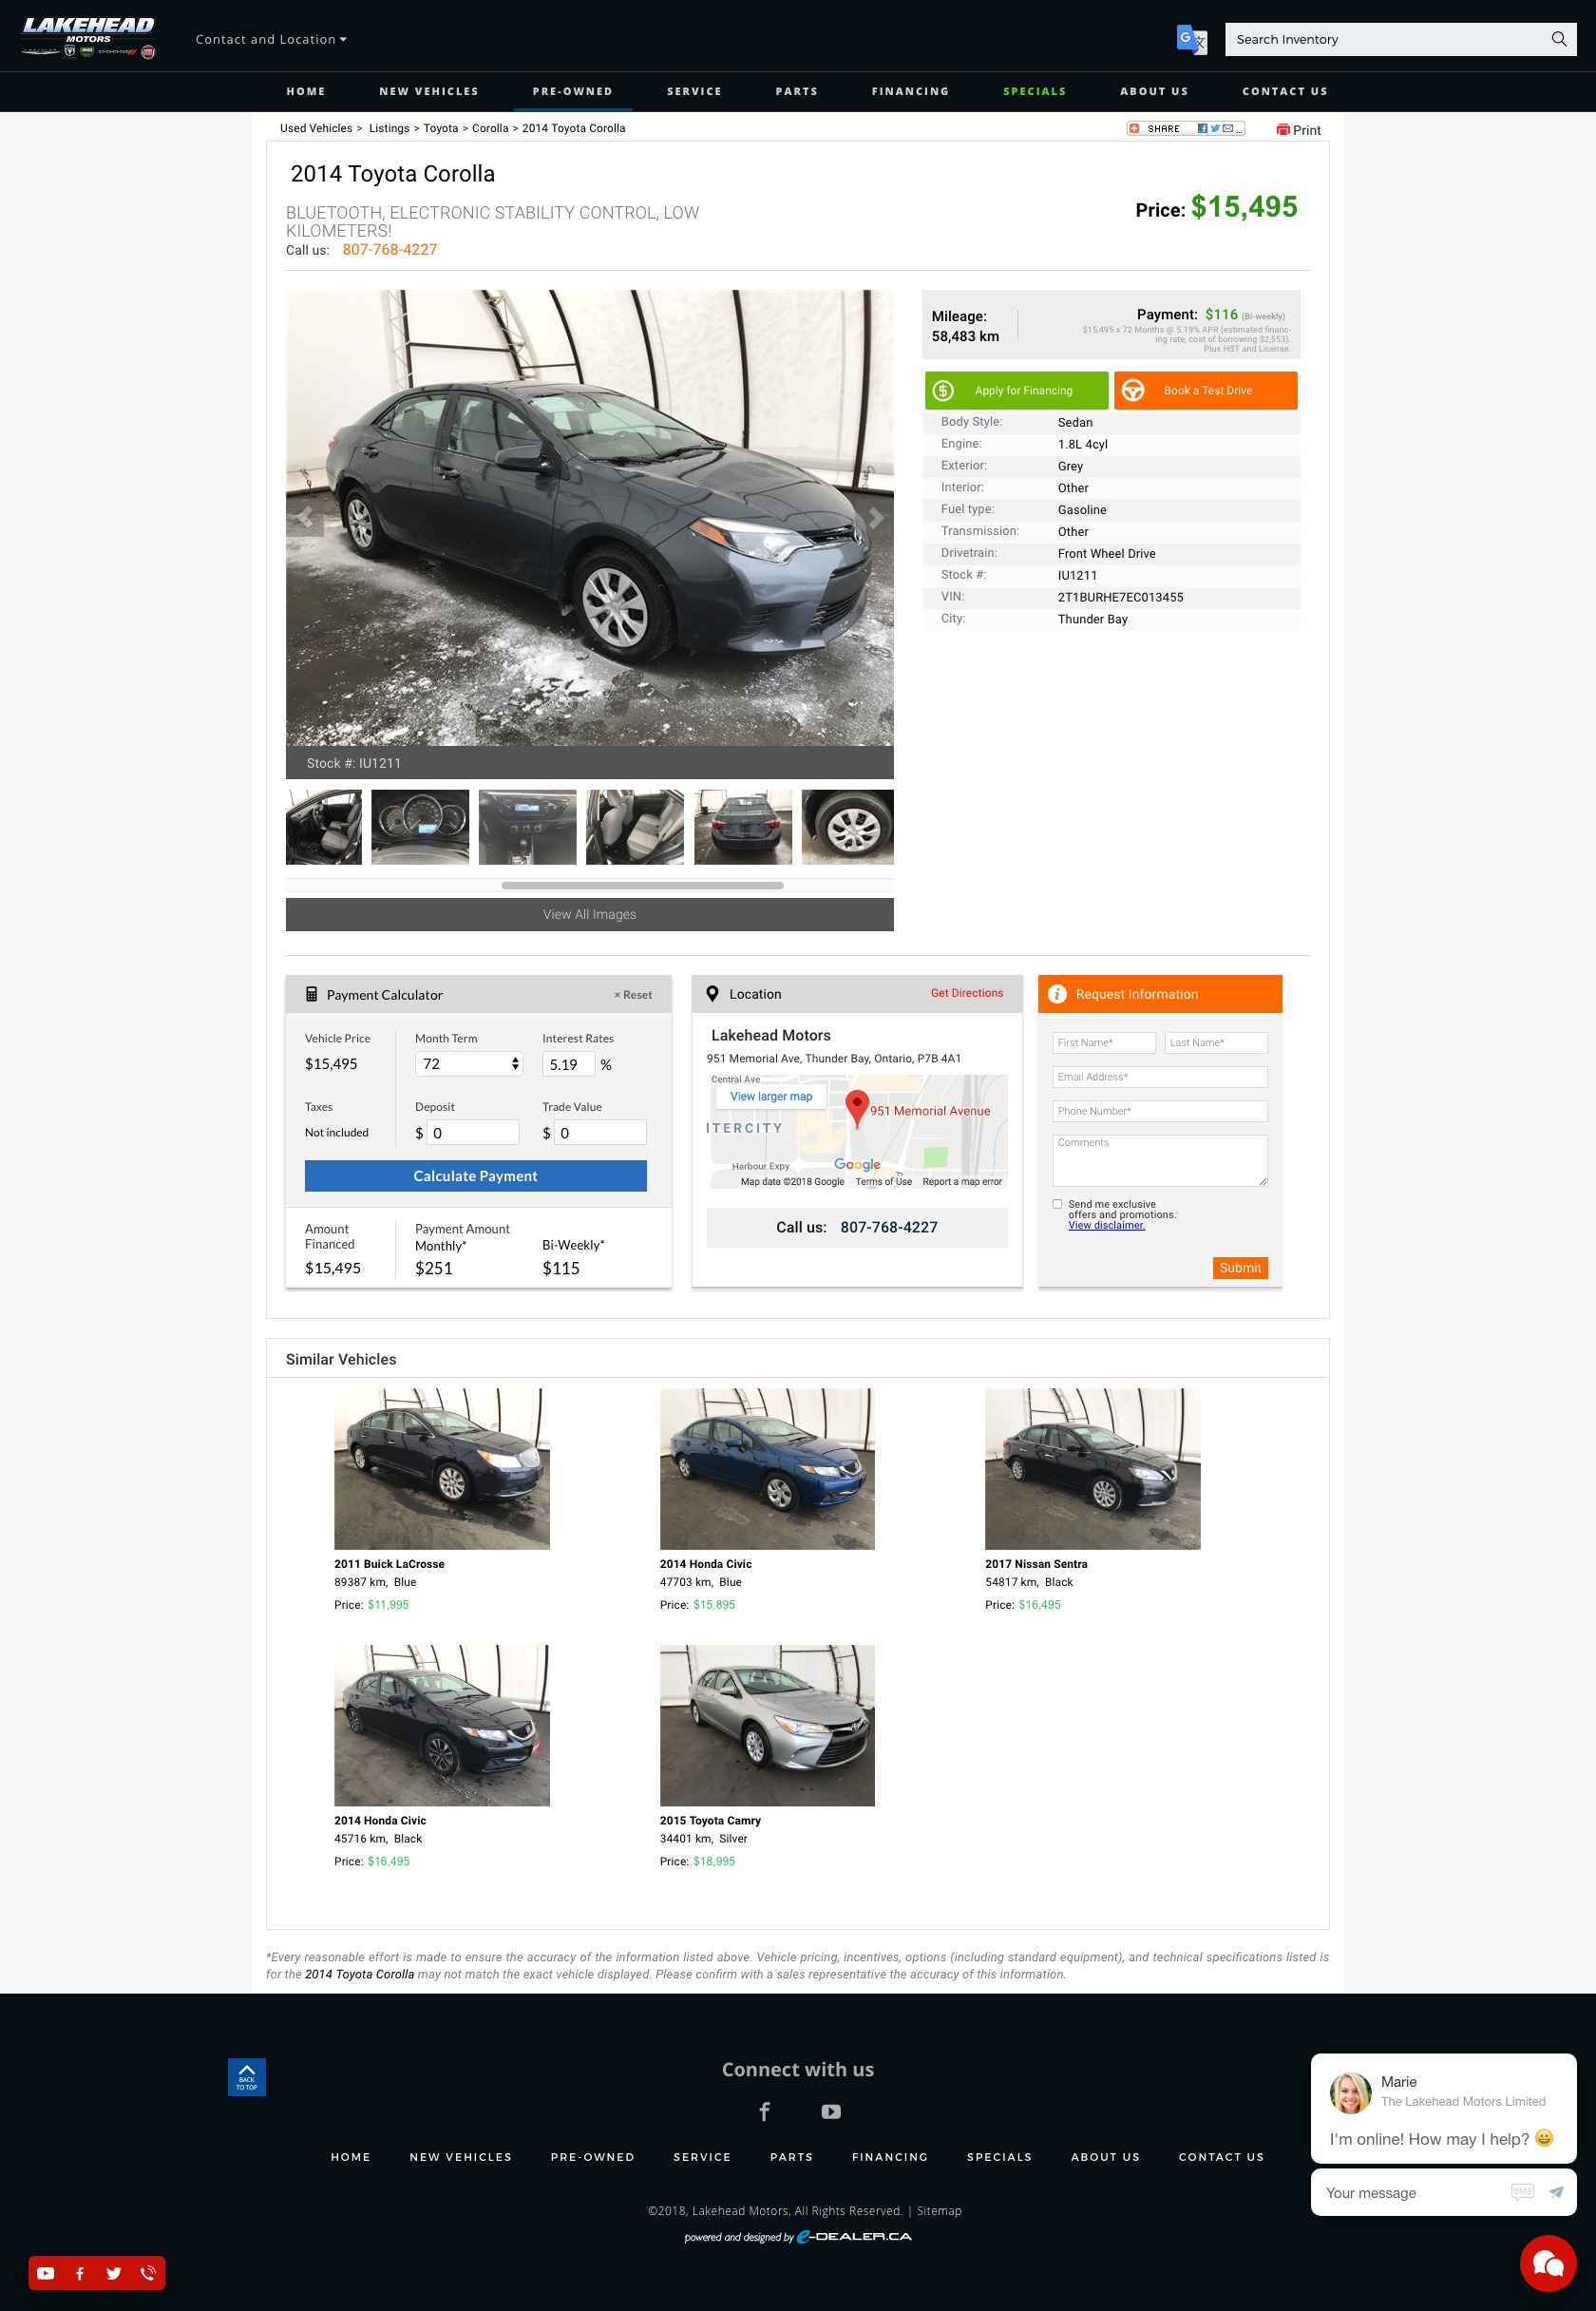car: (853, 493, 897, 544)
